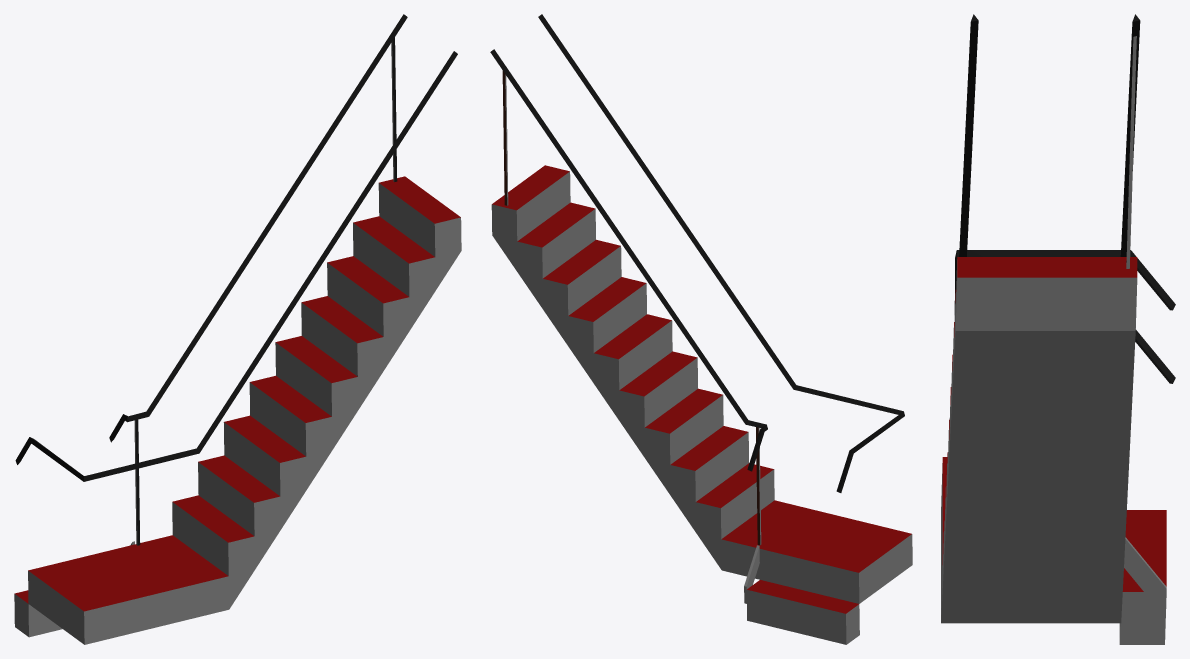
Rendered from EscalierMaison_01.fbx.
3 views of the same model, side by side, from view 1: azimuth 30°, elevation 25°; view 2: azimuth 150°, elevation 25°; view 3: azimuth 270°, elevation 25° (orthographic). The views are drawn at different scales.
Parts seen in each view (by area): view 1: EscalierMaison_01; view 2: EscalierMaison_01; view 3: EscalierMaison_01.
Part boxes in pixels (x1=…): EscalierMaison_01: x1=14, y1=14, x2=461, y2=644; EscalierMaison_01: x1=490, y1=14, x2=912, y2=644; EscalierMaison_01: x1=941, y1=14, x2=1175, y2=644.
Bounding box in the file's own units: 363 × 478 × 120.
